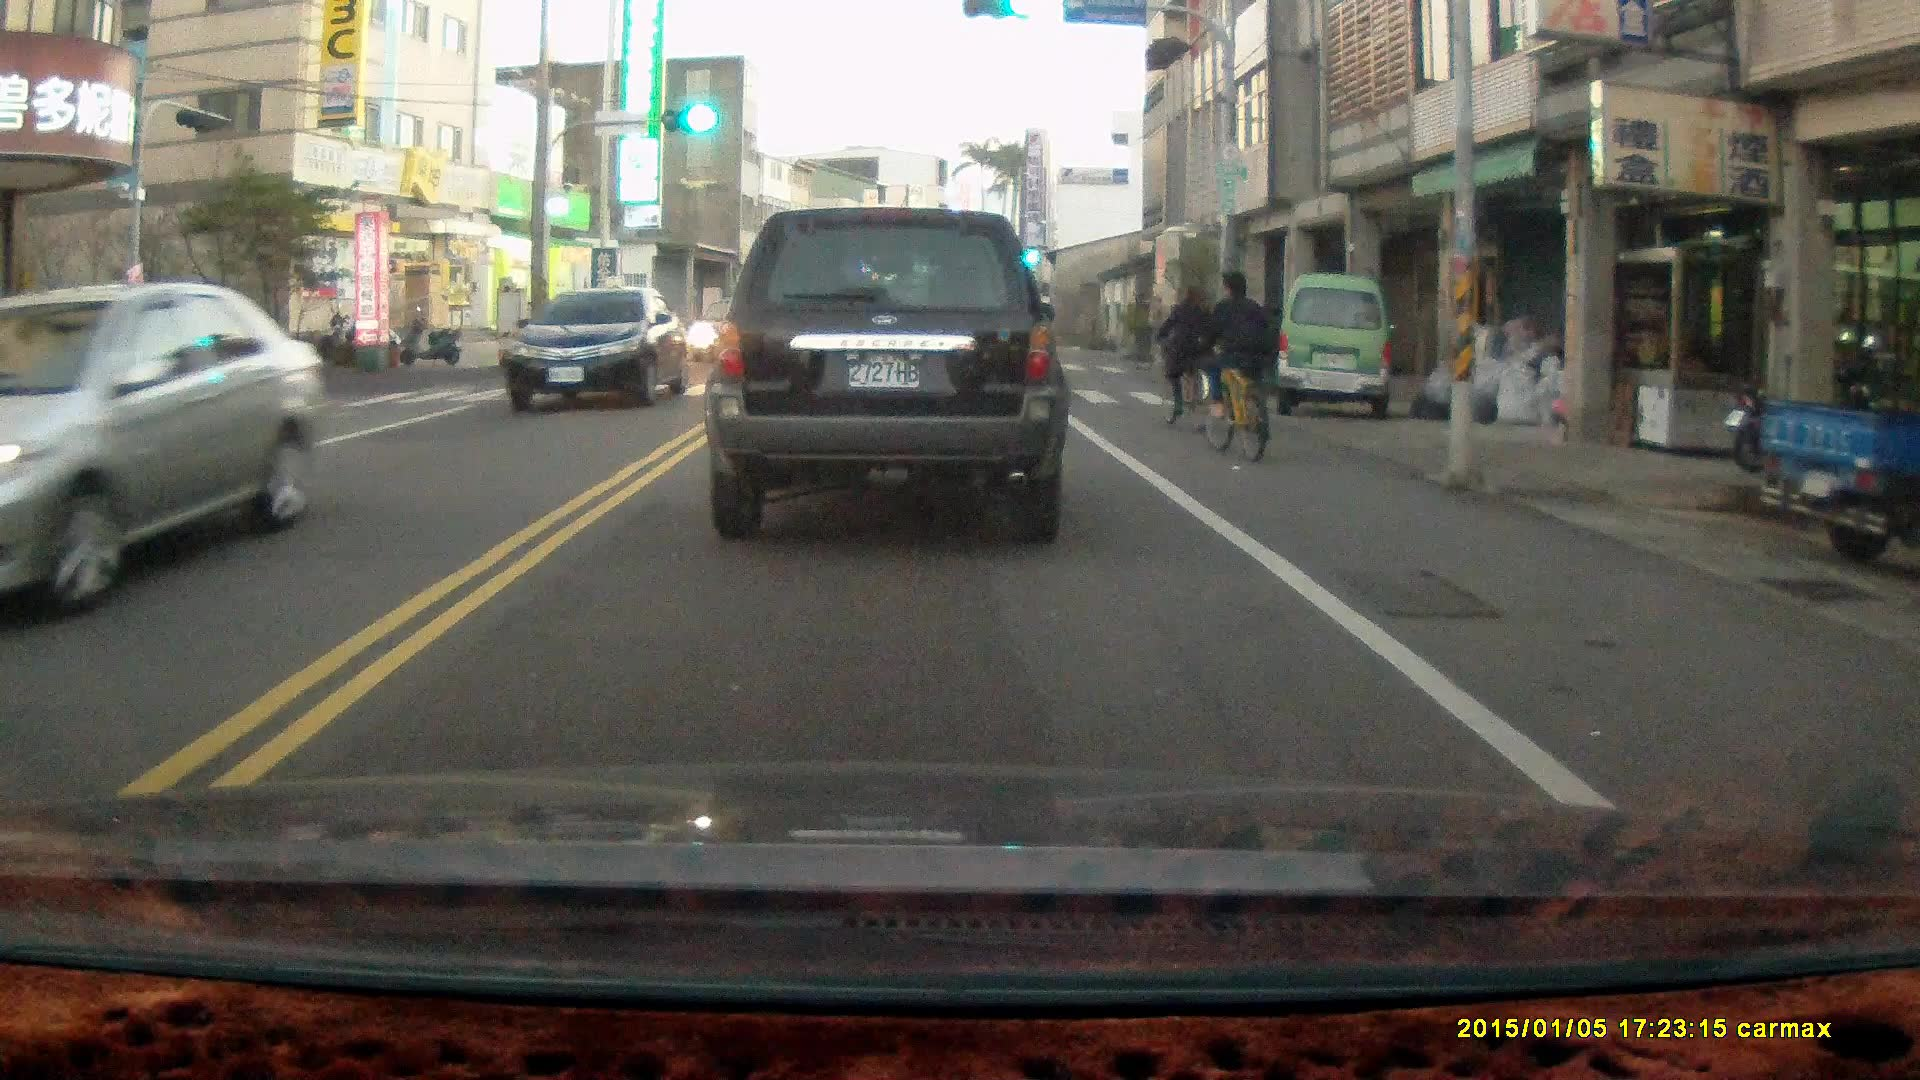rider: (1197, 267, 1272, 462), (1154, 275, 1222, 437)
vehicle: (713, 206, 1070, 540), (1, 281, 328, 622), (506, 283, 692, 416), (1276, 273, 1395, 425)
